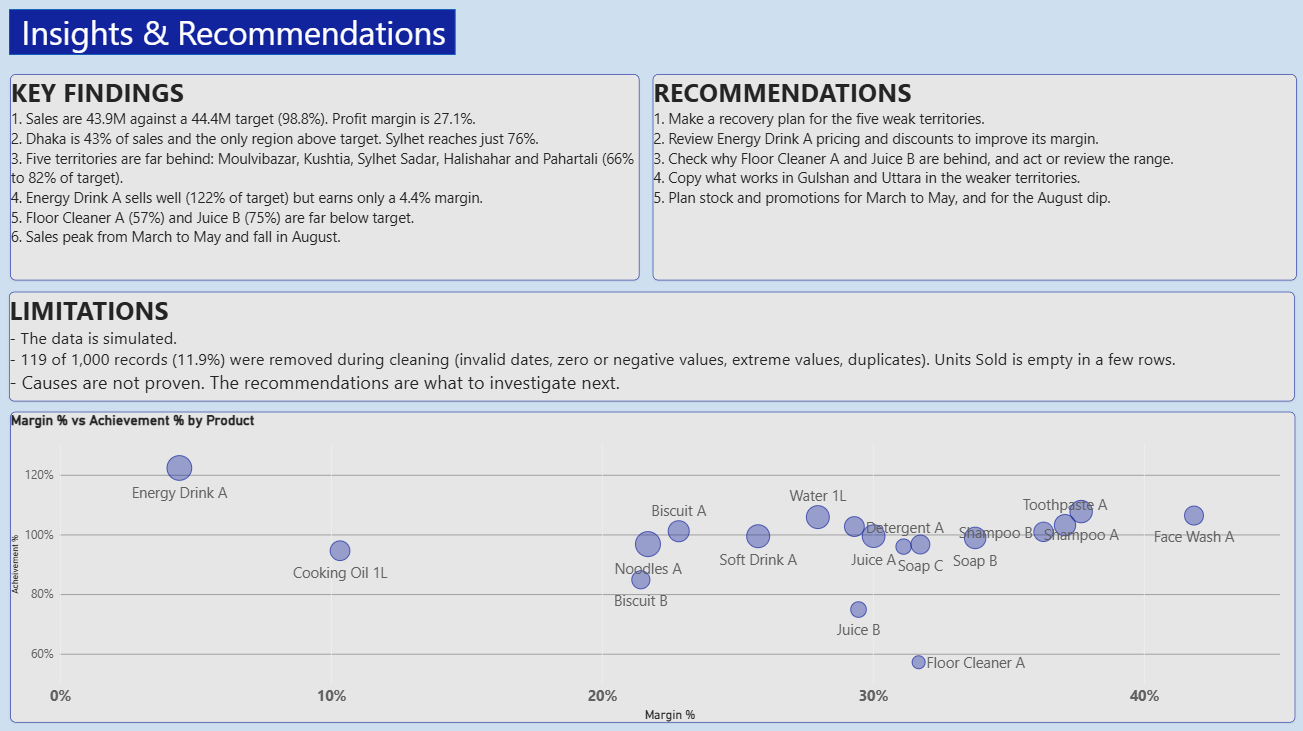

The page's visual inventory and layout, read from the dashboard file:
{"tool":"powerbi","page":{"name":"Insights & Recommendations","canvas":[1920,1080],"ordinal":2},"visuals":[{"type":"shape","box":[14.5,16.3,655.1,67],"z":0},{"type":"textbox","box":[32.6,16.3,637,67],"z":1000},{"type":"textbox","box":[16.3,112.2,922.9,302.2],"z":2000},{"type":"textbox","box":[959.1,112.2,944.6,302.2],"z":3000},{"type":"textbox","box":[14.5,430.7,1886.6,160.7],"z":4000},{"type":"scatterChart","title":"Margin % vs Achievement % by Product","fields":{"Category":["FactSales.Product"],"Size":["FactSales.Total Sales"],"X":["FactSales.Margin %"],"Y":["FactSales.Acheivement %"]},"box":[16.3,608,1885.7,456],"z":5000}]}

Visuals, with their boxes in screenshot pixels (x1, y1, x2, y2), scaled from the page's 1920x1080 canvas onto the 1303x731 screenshot:
shape: <box>10,11,454,56</box>
textbox: <box>22,11,454,56</box>
textbox: <box>11,76,637,280</box>
textbox: <box>651,76,1292,280</box>
textbox: <box>10,292,1290,400</box>
"Margin % vs Achievement % by Product" scatterChart: <box>11,412,1291,720</box>
